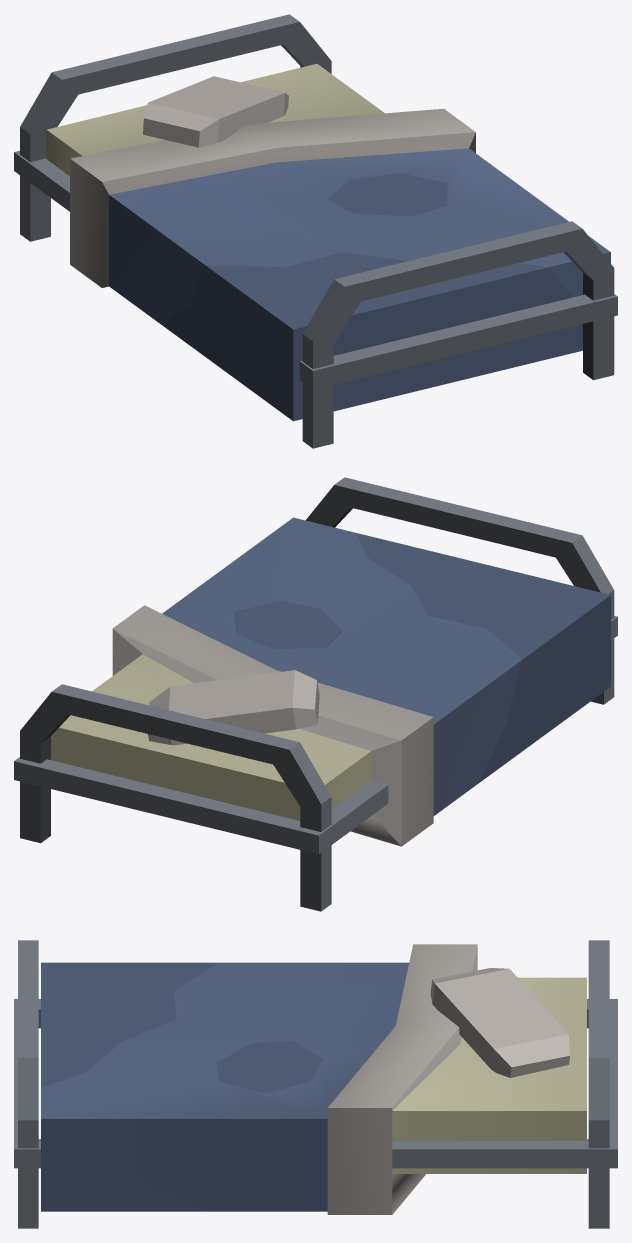
The model's file is AI_Prop_Bed_Stained.fbx.
3 views of the same model, one above another, from view 1: azimuth 30°, elevation 25°; view 2: azimuth 150°, elevation 25°; view 3: azimuth 270°, elevation 25° (orthographic).
Parts seen in each view (by area): view 1: AI_Prop_Bed_Stained; view 2: AI_Prop_Bed_Stained; view 3: AI_Prop_Bed_Stained.
Part boxes in pixels (x1,y1,x2,y2): AI_Prop_Bed_Stained: [14, 14, 617, 448]; AI_Prop_Bed_Stained: [14, 477, 617, 911]; AI_Prop_Bed_Stained: [14, 940, 617, 1228].
Bounding box in the file's own units: 2.51 × 1.12 × 3.92.
